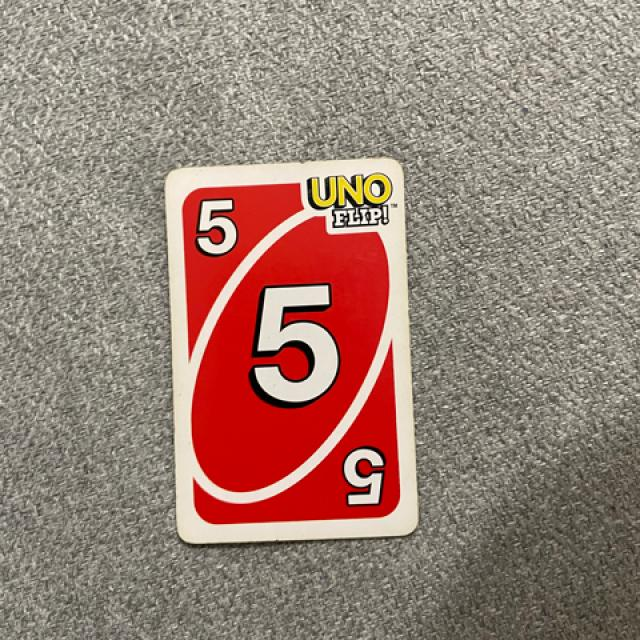lred-5: (177, 182, 252, 270)
